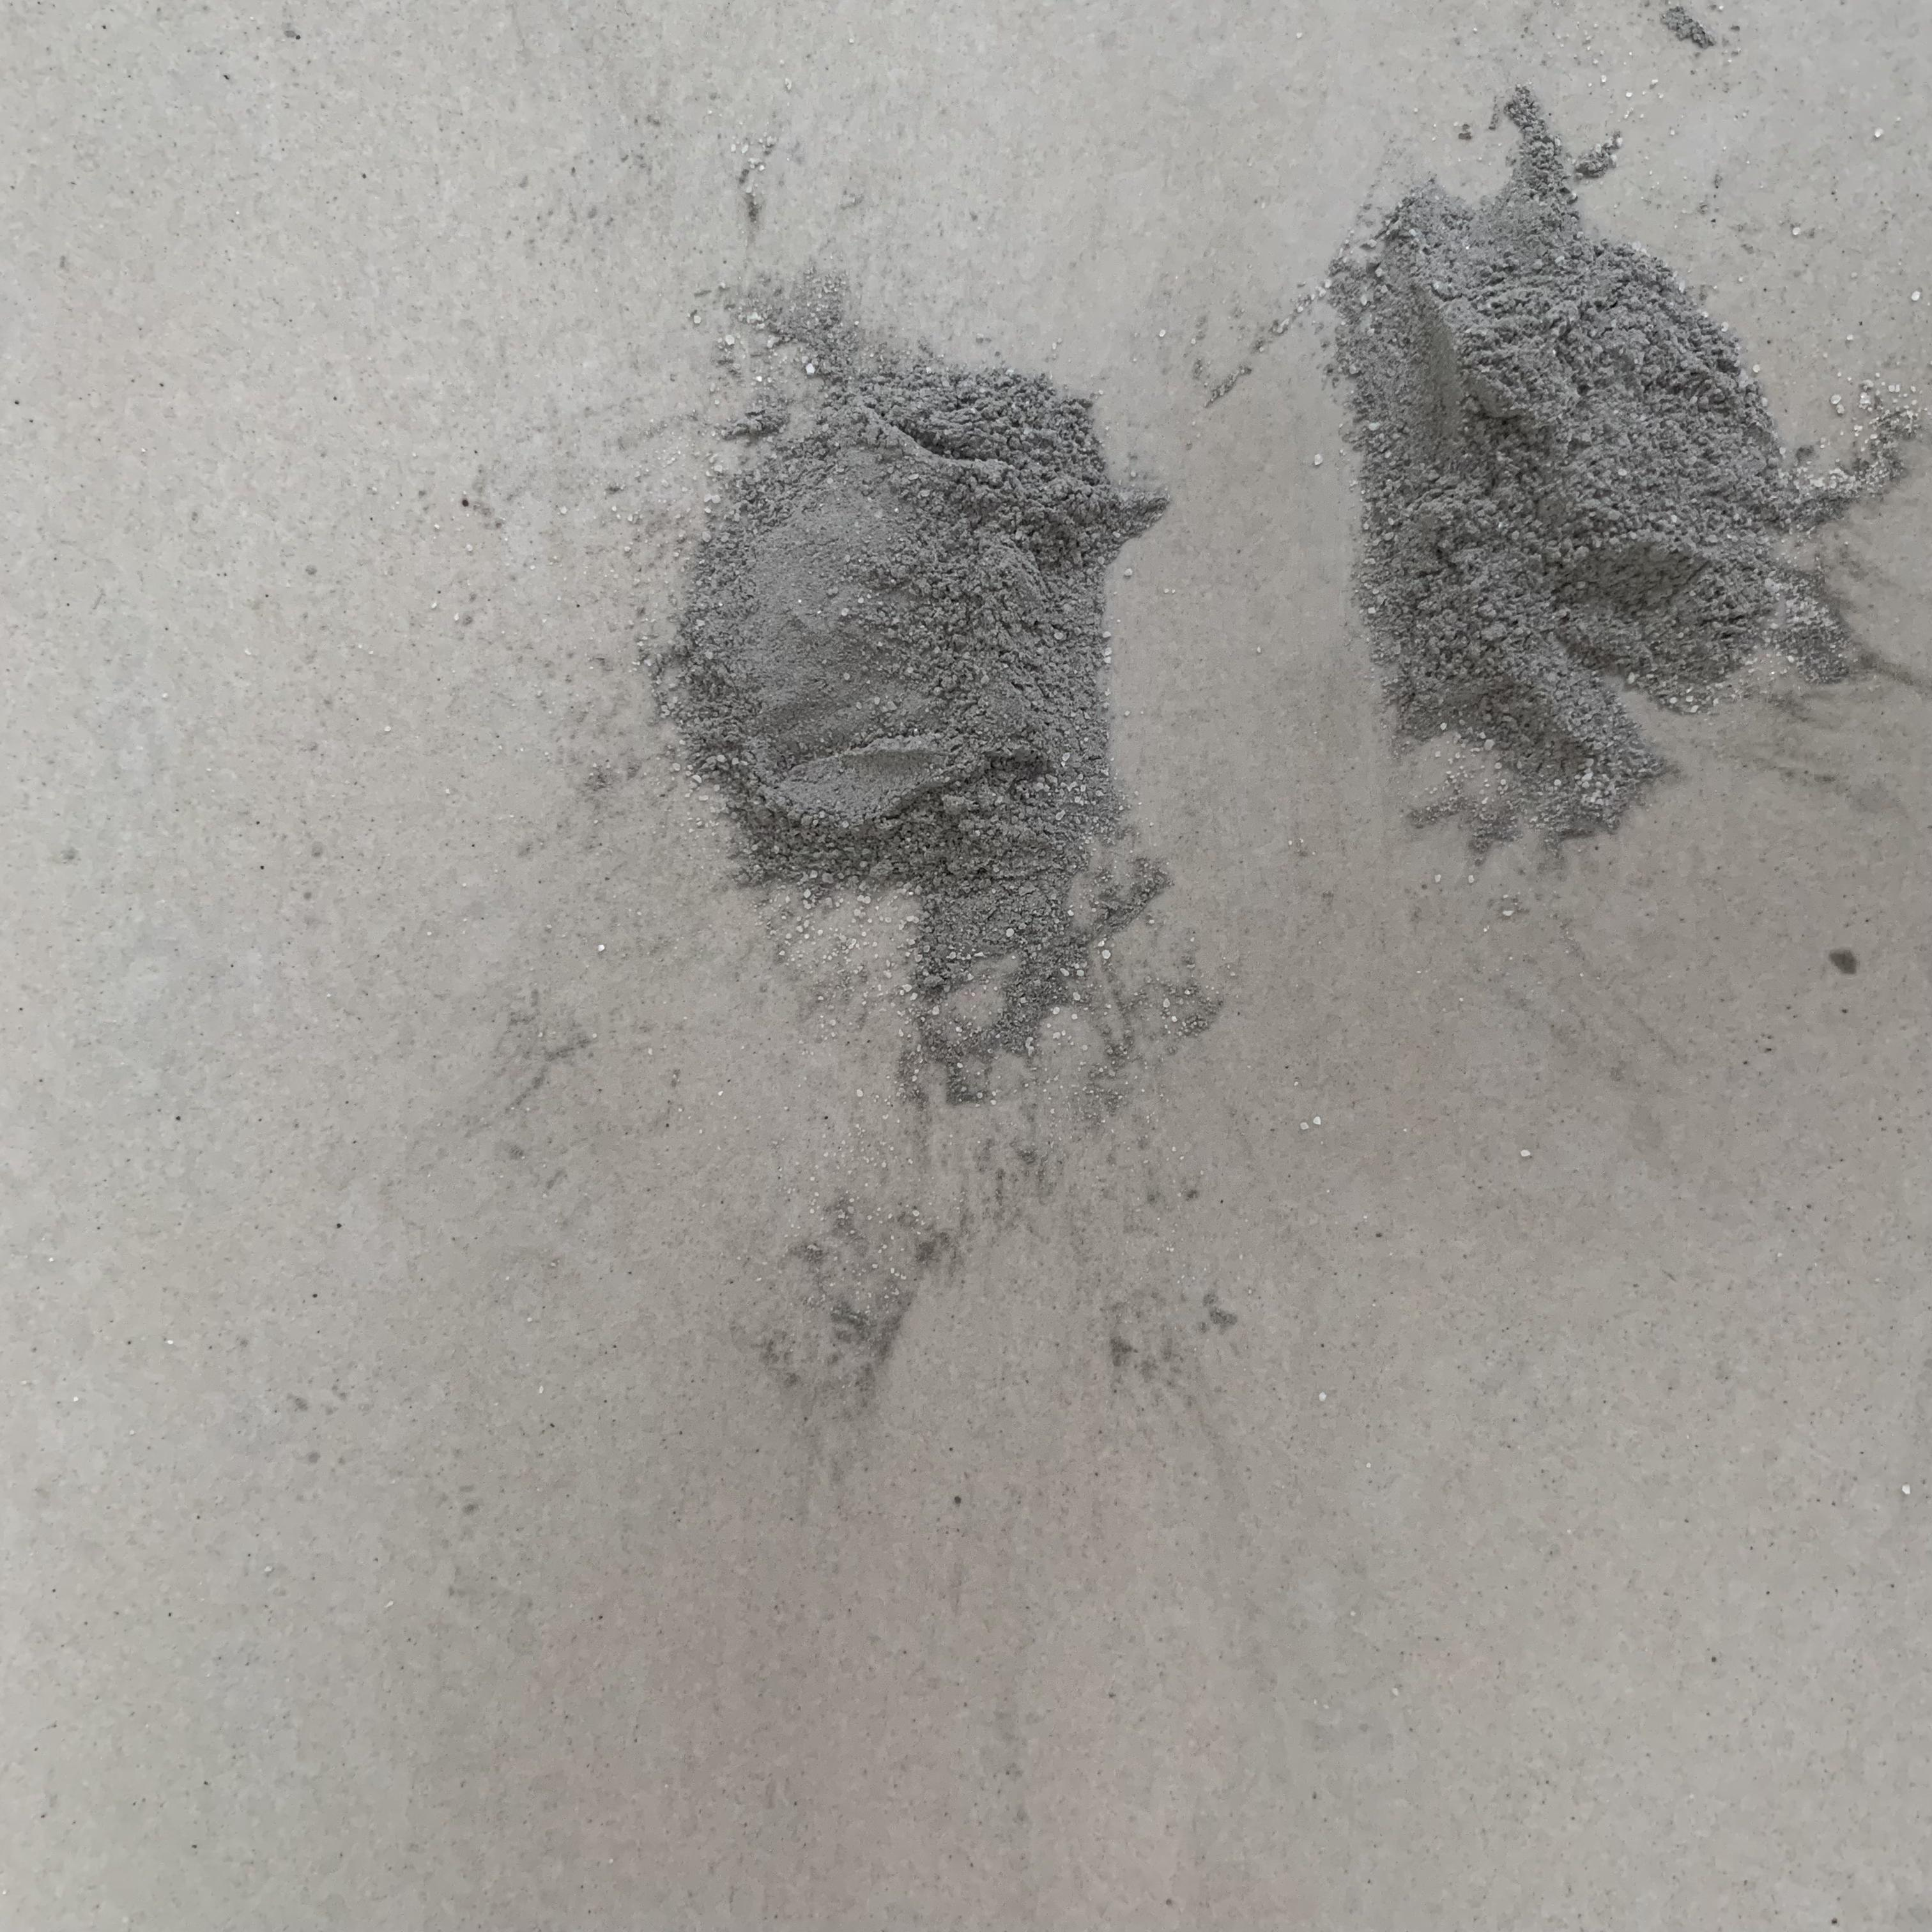ash pile: (566, 278, 1242, 1488), (1187, 85, 1925, 874)
